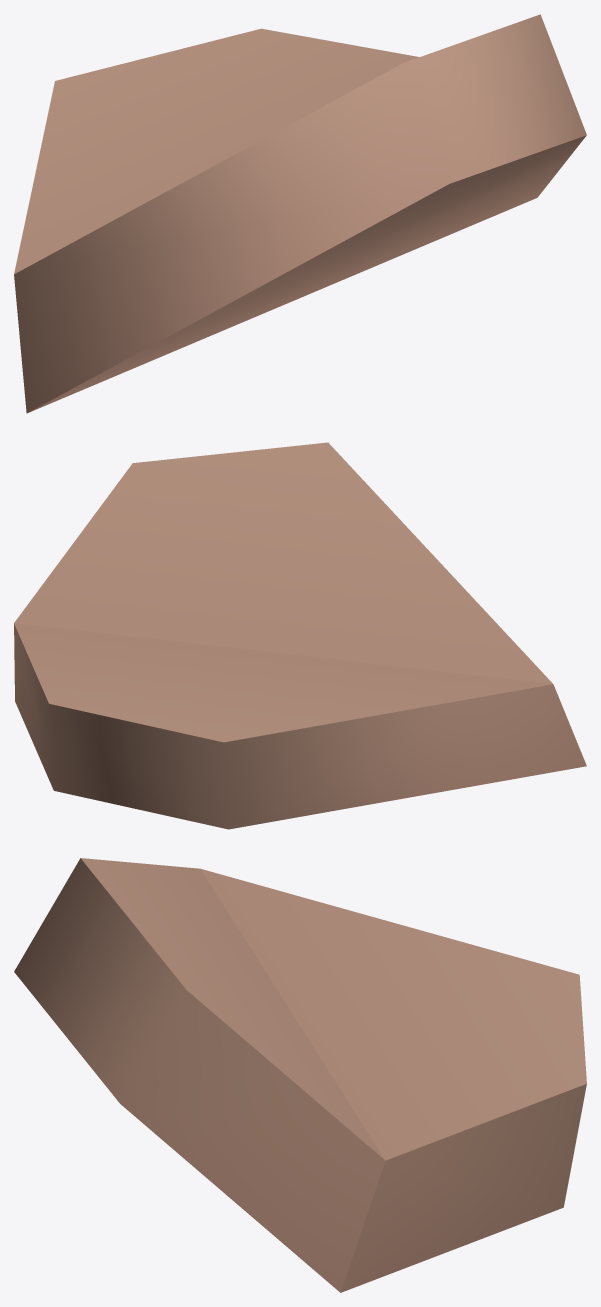
Rendered from (%no-merge) 34.glb.
3 views of the same model, one above another, from view 1: azimuth 30°, elevation 25°; view 2: azimuth 150°, elevation 25°; view 3: azimuth 270°, elevation 25° (orthographic). The views are drawn at different scales.
Visible parts, largest first — view 1: (%no-merge) 34; view 2: (%no-merge) 34; view 3: (%no-merge) 34.
Boxes of the visible parts, x1=… form: (%no-merge) 34: x1=14, y1=14, x2=586, y2=413; (%no-merge) 34: x1=14, y1=442, x2=586, y2=829; (%no-merge) 34: x1=14, y1=858, x2=586, y2=1292.
Bounding box in the file's own units: 0.1755 × 0.08 × 0.1373.
